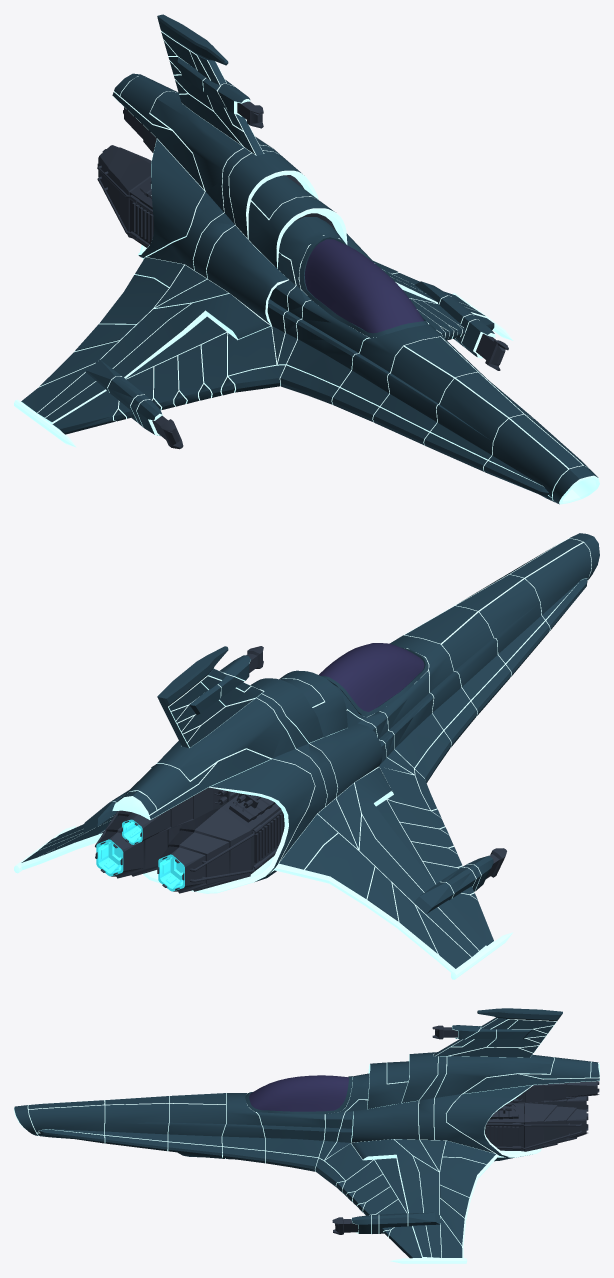
The model's file is Selestia_GameReady_Model.fbx.
3 views of the same model, one above another, from view 1: azimuth 30°, elevation 25°; view 2: azimuth 150°, elevation 25°; view 3: azimuth 270°, elevation 25° (orthographic). The views are drawn at different scales.
Visible parts, largest first — view 1: Body, Wings, Engine, Guns; view 2: Engine, Wings, Body, Guns; view 3: Body, Engine, Wings, Guns.
Part boxes in pixels (left/top/right/bottom): Body: left=267, top=217, right=599, bottom=504; Wings: left=14, top=14, right=513, bottom=447; Engine: left=97, top=73, right=374, bottom=325; Guns: left=86, top=57, right=508, bottom=449; Engine: left=95, top=670, right=382, bottom=893; Wings: left=14, top=646, right=513, bottom=979; Body: left=319, top=533, right=599, bottom=782; Guns: left=84, top=646, right=506, bottom=914; Body: left=14, top=1073, right=369, bottom=1171; Engine: left=351, top=1052, right=599, bottom=1161; Wings: left=315, top=1008, right=562, bottom=1263; Guns: left=332, top=1025, right=531, bottom=1234.
Size of the model in its own units: 9532 by 5944 by 17026.
